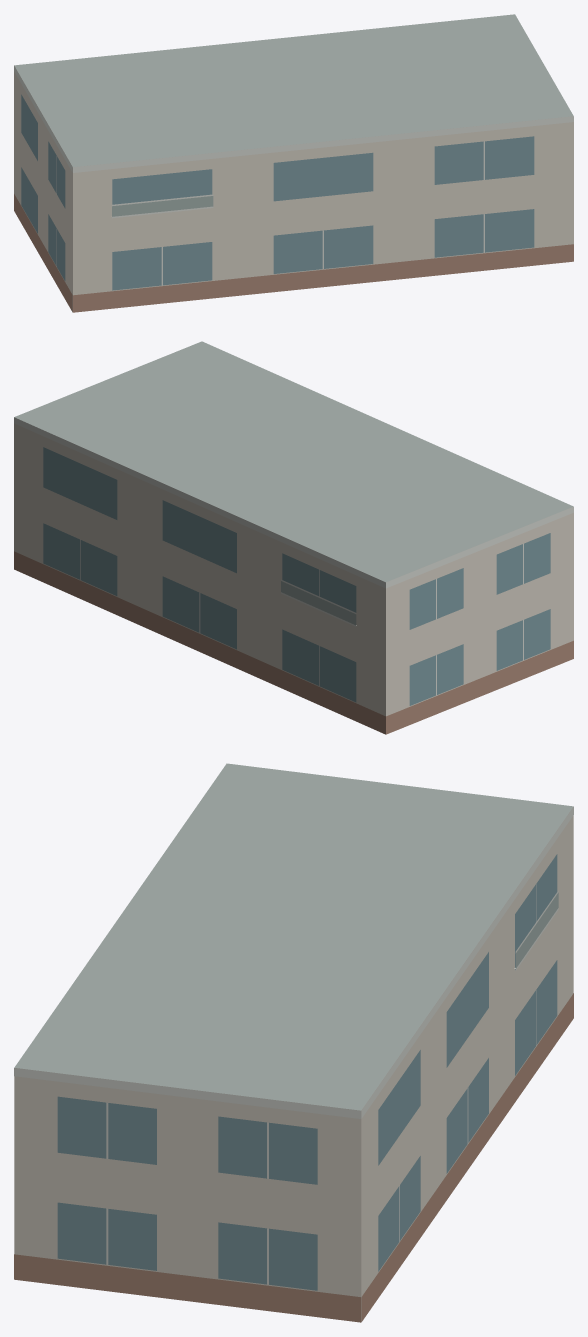
The model's file is survey-upis-32741741.glb.
The picture shows the model from 3 angles, top to bottom: view 1: azimuth 30°, elevation 25°; view 2: azimuth 150°, elevation 25°; view 3: azimuth 270°, elevation 25°; orthographic projection. The views are drawn at different scales.
Visible parts, largest first — view 1: survey-upis-32741741.tmp; view 2: survey-upis-32741741.tmp; view 3: survey-upis-32741741.tmp.
Part boxes in pixels (left/top/right/bottom): survey-upis-32741741.tmp: left=14, top=14, right=573, bottom=312; survey-upis-32741741.tmp: left=14, top=341, right=573, bottom=734; survey-upis-32741741.tmp: left=14, top=763, right=573, bottom=1322.
Size of the model in its own units: 21.45 by 6.1 by 14.61.
